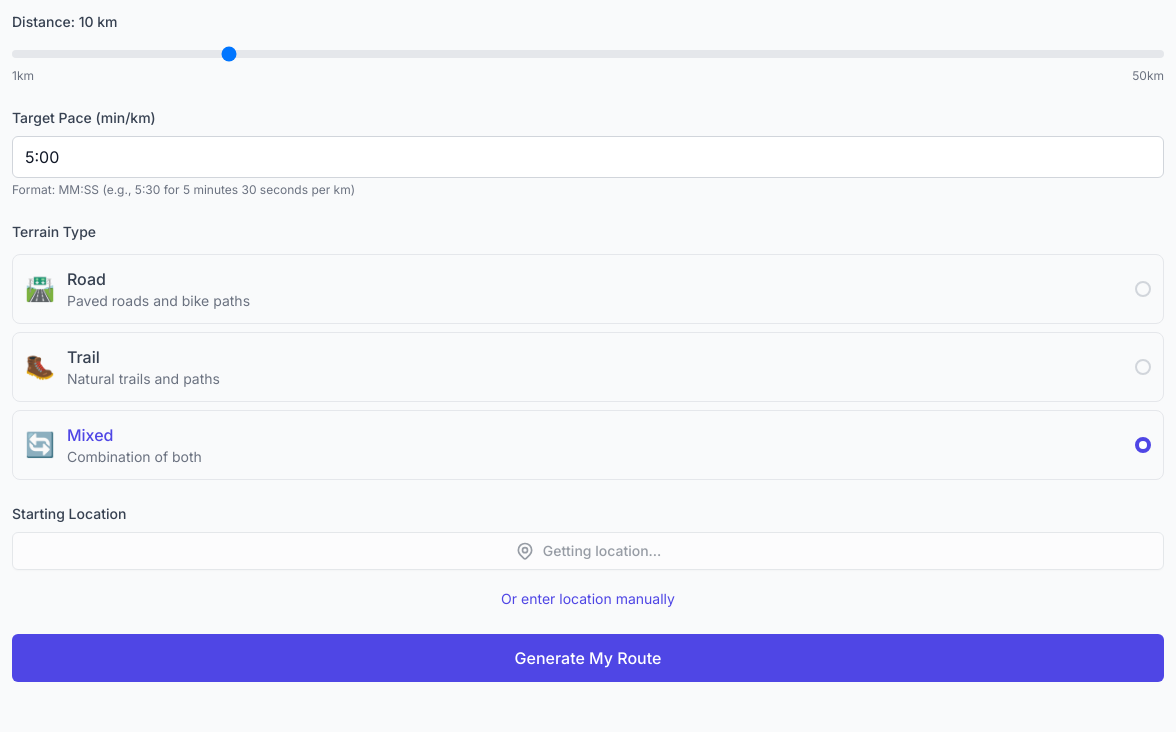
Scenario: SearchForm › updates distance when slider is moved
Set the slider to "15". click: {"x": 345, "y": 54}
box: [12,50,1164,58]
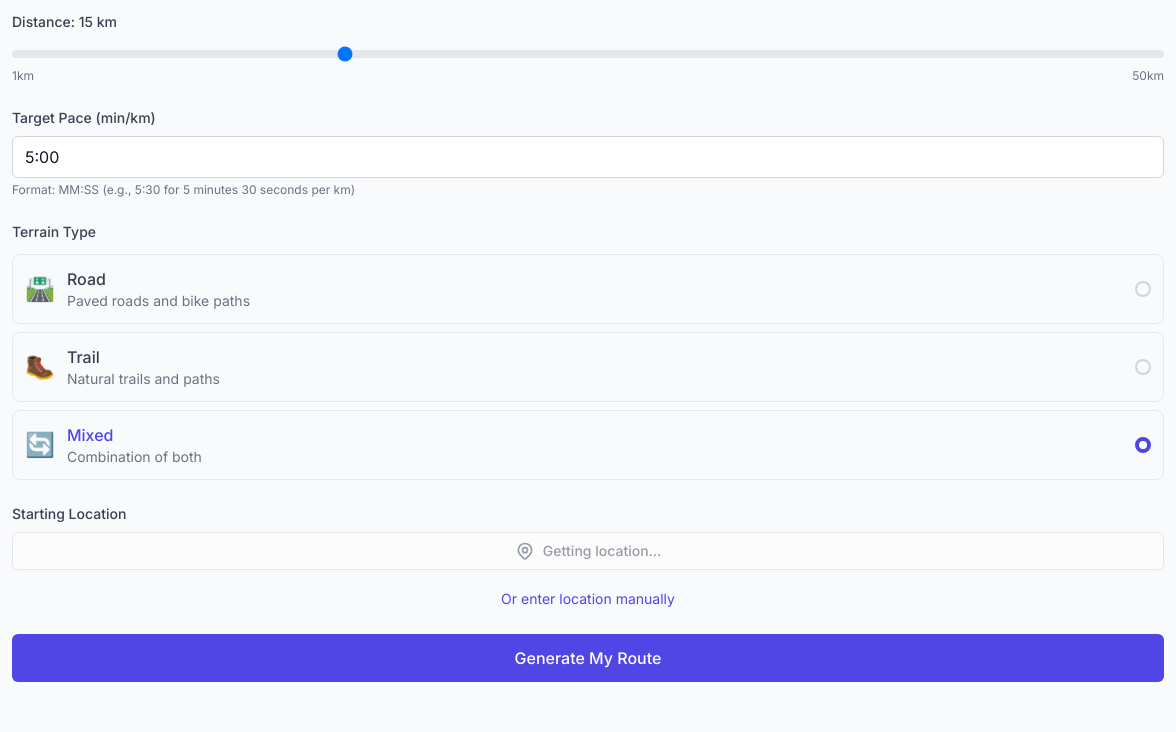
Result: the text "Distance: 15 km" is shown at [12,13,117,30]
